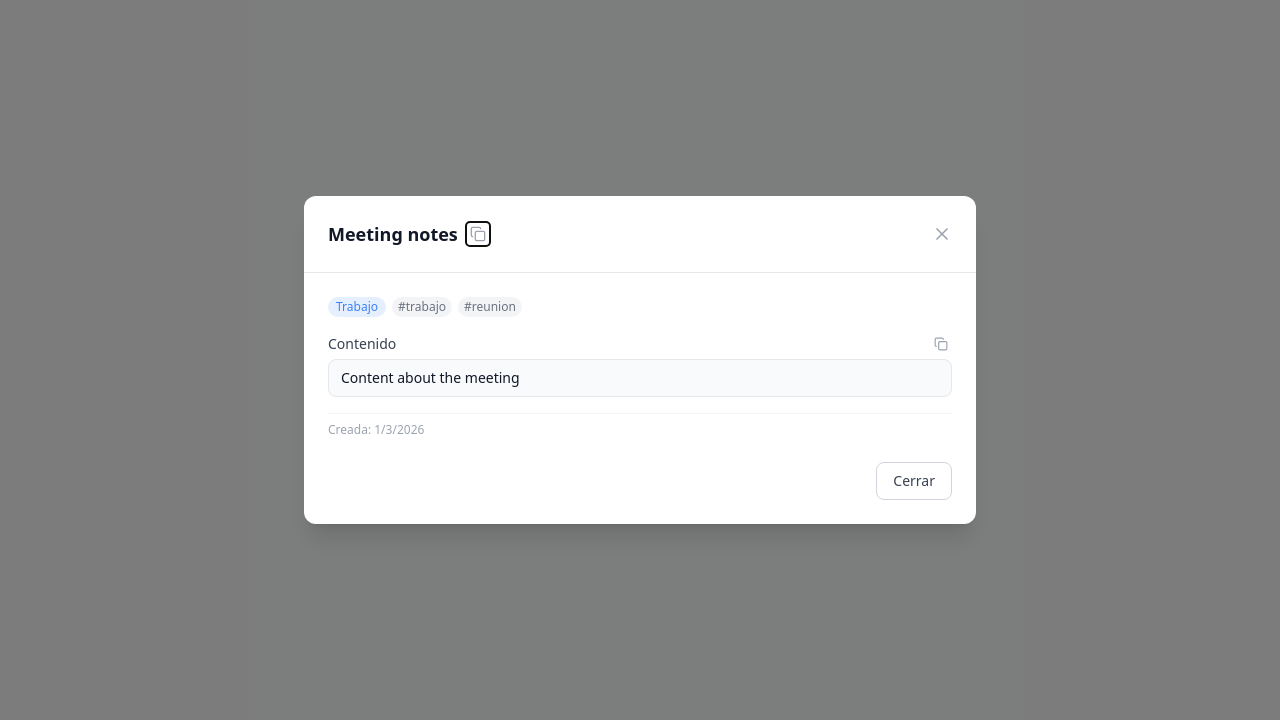
Test: NoteViewModal › copia el título de forma independiente del contenido
Click the button named "Copiar título" at (478, 234), box [466, 222, 490, 246]
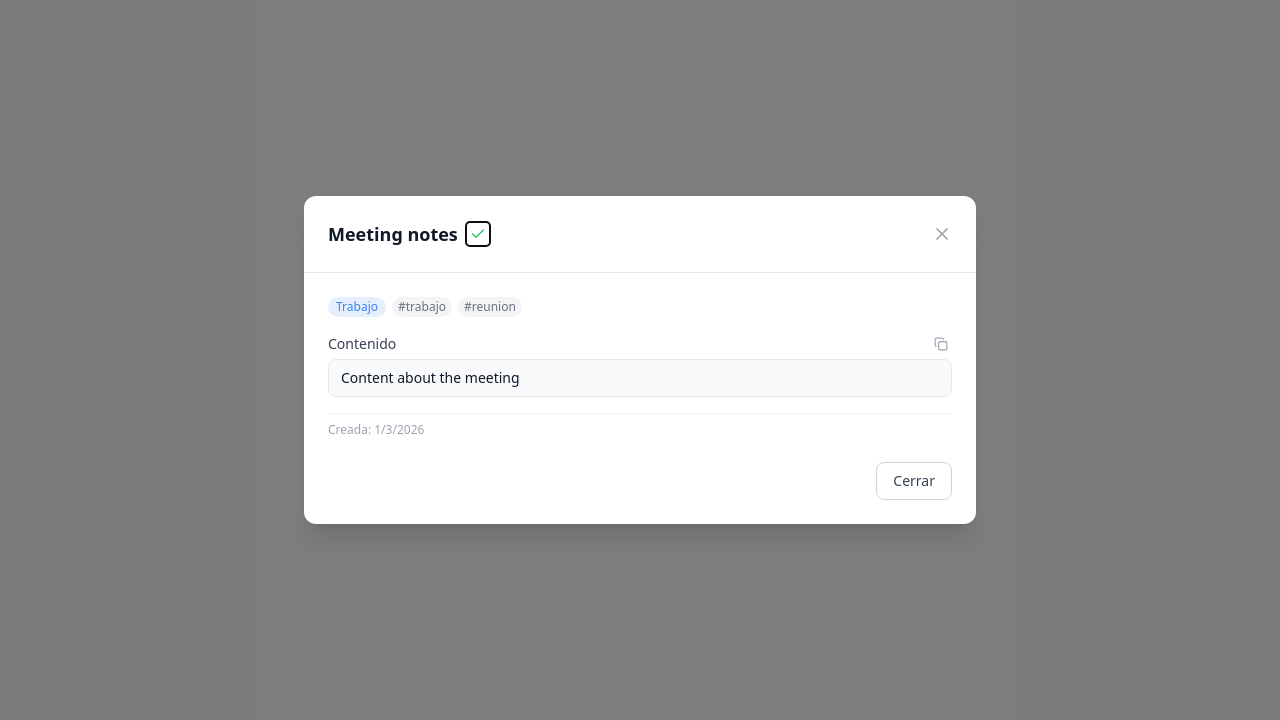
Now the icon next to "Meeting notes" is shown, box [470, 226, 486, 242]
